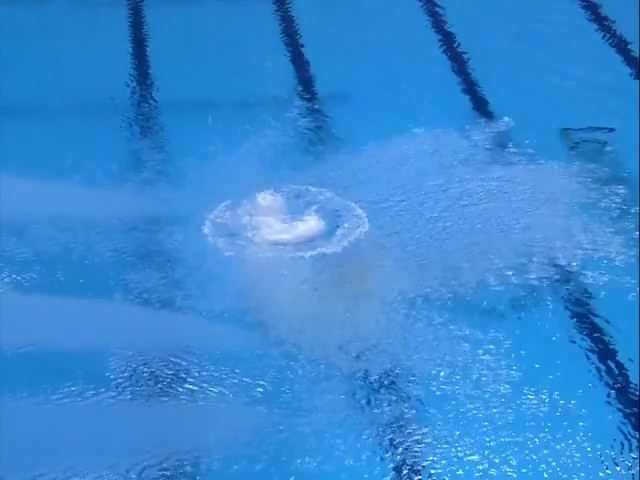splash: (203, 187, 371, 263)
